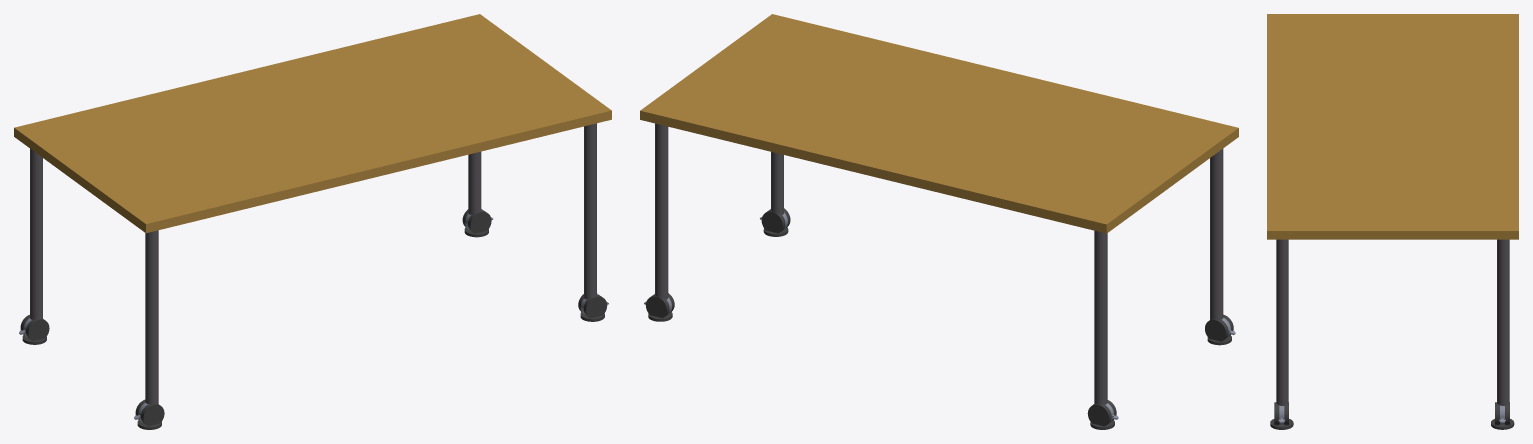
The model's file is OtherTable.fbx.
3 renders of one model, left to right at view 1: azimuth 30°, elevation 25°; view 2: azimuth 150°, elevation 25°; view 3: azimuth 270°, elevation 25°, orthographic. The views are drawn at different scales.
Parts seen in each view (by area): view 1: Cube, Cylinder.002, Cylinder.001, Cylinder.003, Cylinder; view 2: Cube, Cylinder, Cylinder.003, Cylinder.002, Cylinder.001; view 3: Cube, Cylinder, Cylinder.001.
Boxes of the visible parts, left/top/right/bottom form: Cube: left=14, top=14, right=611, bottom=233; Cylinder.002: left=145, top=230, right=158, bottom=404; Cylinder.001: left=584, top=123, right=596, bottom=299; Cylinder.003: left=30, top=148, right=42, bottom=319; Cylinder: left=468, top=151, right=481, bottom=214; Cube: left=640, top=14, right=1238, bottom=233; Cylinder: left=655, top=123, right=668, bottom=299; Cylinder.003: left=1094, top=230, right=1107, bottom=404; Cylinder.002: left=1210, top=149, right=1223, bottom=319; Cylinder.001: left=771, top=152, right=783, bottom=214; Cube: left=1267, top=14, right=1518, bottom=239; Cylinder: left=1497, top=239, right=1509, bottom=405; Cylinder.001: left=1276, top=239, right=1288, bottom=405.
Bounding box in the file's own units: 403 × 170 × 194.
